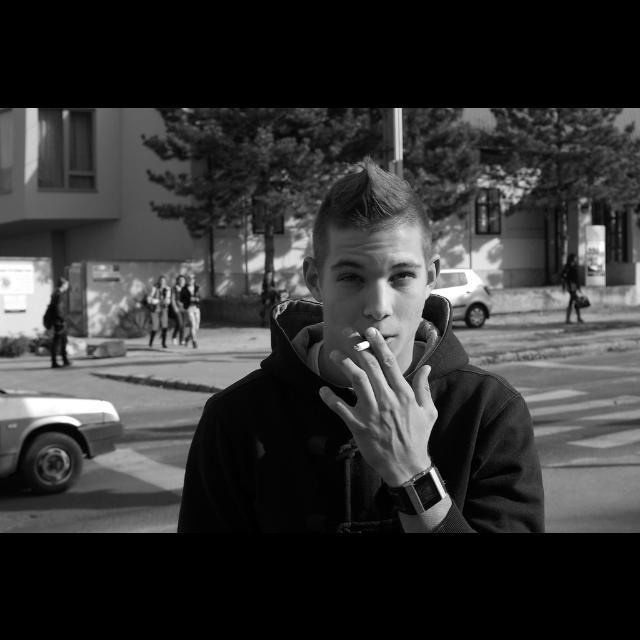rokok: (354, 340, 374, 352)
